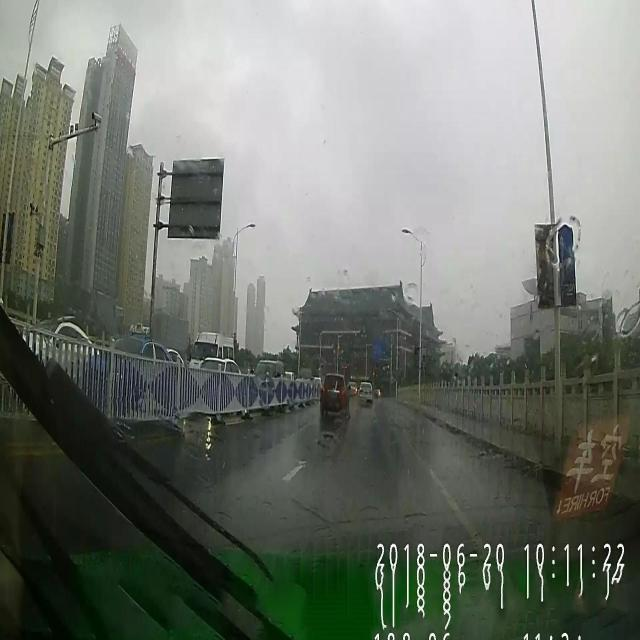car: (320, 372, 350, 418), (358, 381, 373, 404)
